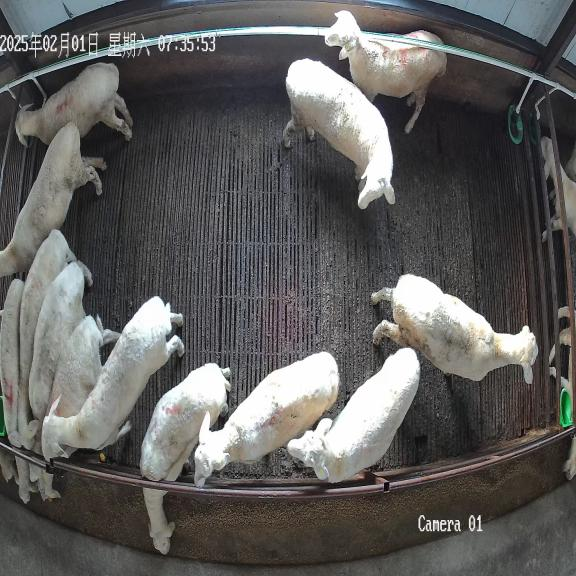eating: (140, 363, 231, 554), (38, 316, 103, 500), (0, 279, 35, 503)
stand: (42, 296, 184, 460), (194, 352, 339, 486), (371, 274, 538, 384), (288, 348, 420, 483), (283, 58, 395, 209), (0, 123, 106, 277), (324, 10, 447, 134), (27, 261, 90, 482), (18, 230, 73, 449), (16, 62, 133, 145)
